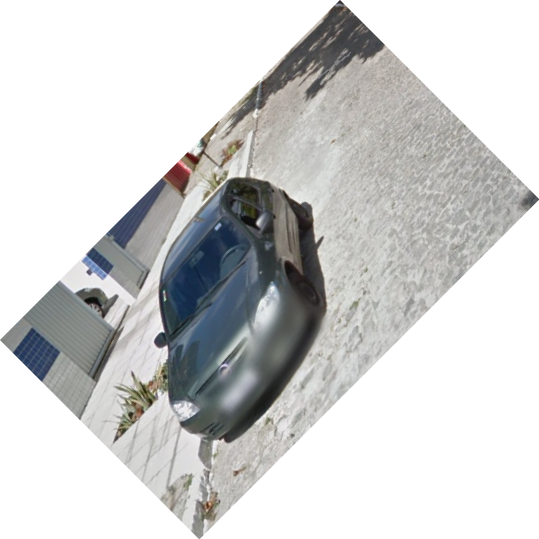car: (148, 174, 327, 448)
